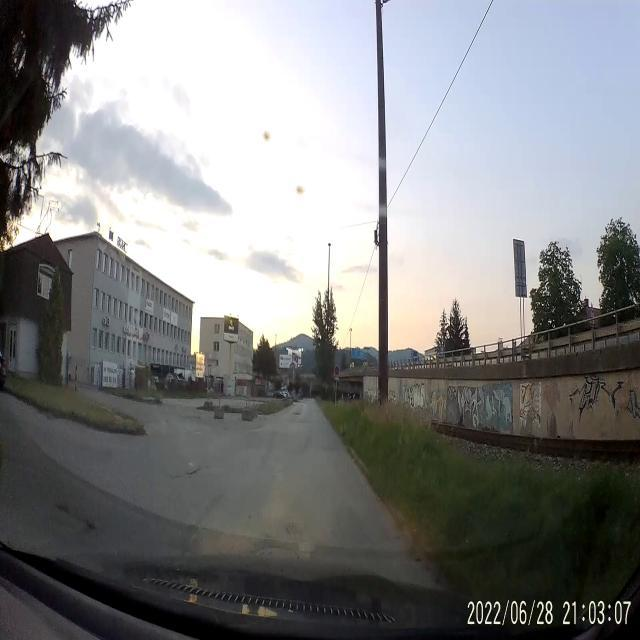Pothole: (56, 504, 98, 534), (173, 468, 204, 482)
